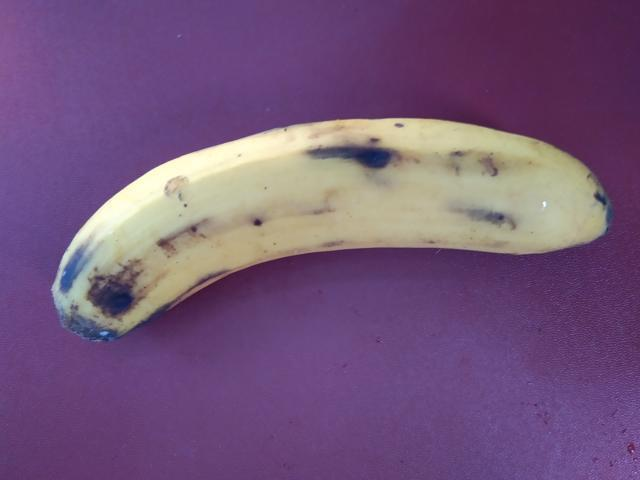ripe: (40, 101, 626, 353)
